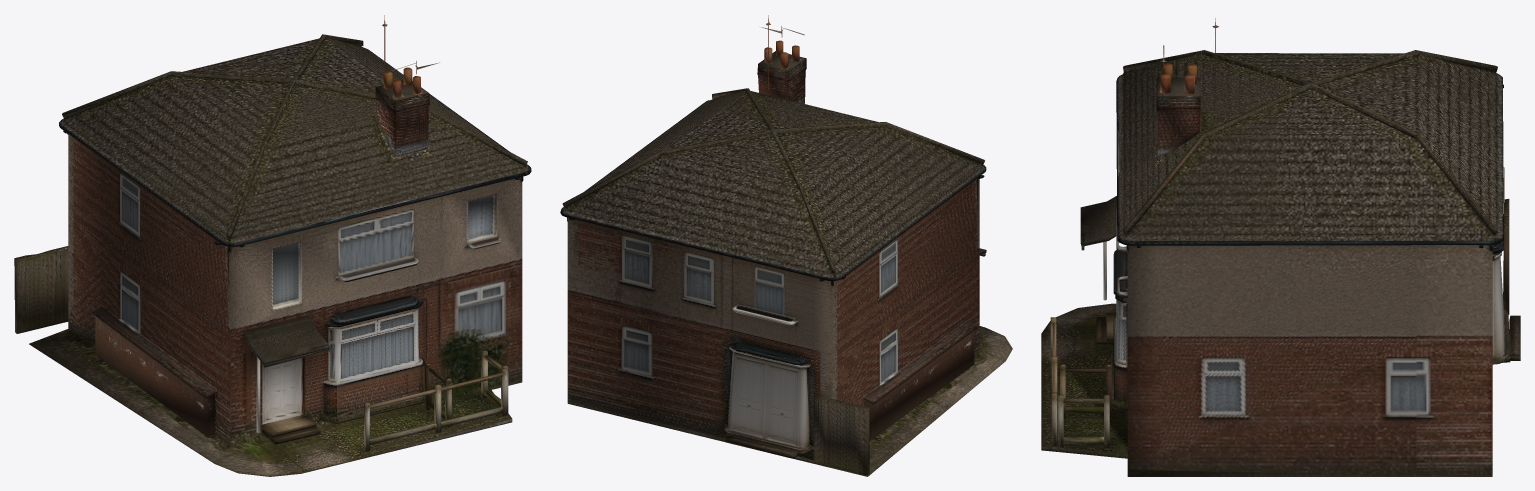
The model's file is brick+house+london+3d+model.glb.
The picture shows the model from 3 angles, left to right: view 1: azimuth 30°, elevation 25°; view 2: azimuth 150°, elevation 25°; view 3: azimuth 270°, elevation 25°; orthographic projection. The views are drawn at different scales.
Visible parts, largest first — view 1: tripo_node_a0965f38-f046-46fd-a56b-3ba8021f9bdd; view 2: tripo_node_a0965f38-f046-46fd-a56b-3ba8021f9bdd; view 3: tripo_node_a0965f38-f046-46fd-a56b-3ba8021f9bdd.
Part boxes in pixels (box(x1,y1,x2,y2)): tripo_node_a0965f38-f046-46fd-a56b-3ba8021f9bdd: box(14, 15, 531, 476); tripo_node_a0965f38-f046-46fd-a56b-3ba8021f9bdd: box(560, 15, 1012, 476); tripo_node_a0965f38-f046-46fd-a56b-3ba8021f9bdd: box(1041, 18, 1520, 476).
Size of the model in its own units: 0.9395 by 0.9395 by 0.998.
1 material, 1 textured.
